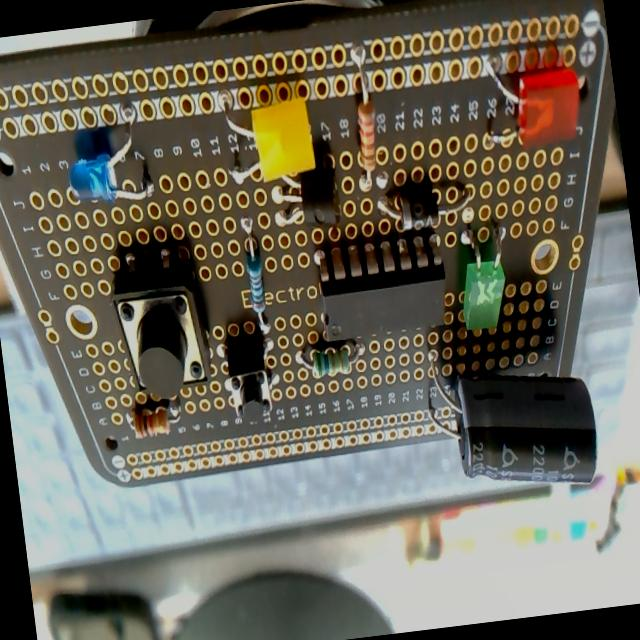Electrolytic capacitor: (420, 339, 604, 502)
IC: (313, 236, 454, 355)
diode: (374, 175, 475, 235)
led: (476, 44, 590, 153), (60, 109, 154, 210), (250, 94, 318, 184), (456, 256, 509, 332)
resistor: (341, 46, 385, 192), (238, 222, 270, 337), (294, 334, 366, 381), (128, 394, 182, 439)
switch: (107, 246, 215, 405), (216, 324, 278, 425)
transistor: (266, 154, 345, 234)
